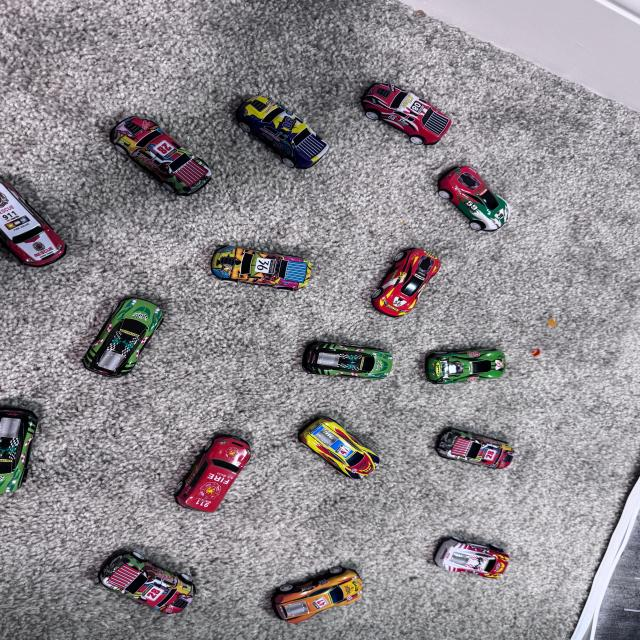car: (38, 272, 189, 390), (404, 402, 575, 502), (84, 104, 228, 216), (59, 540, 222, 638), (215, 59, 331, 172), (338, 222, 459, 326), (146, 397, 244, 525), (254, 319, 408, 397), (406, 157, 536, 245), (341, 50, 457, 146), (283, 406, 413, 486), (0, 158, 72, 278), (409, 522, 526, 590), (406, 316, 510, 392), (255, 540, 354, 618), (206, 237, 328, 291), (0, 390, 36, 500)
